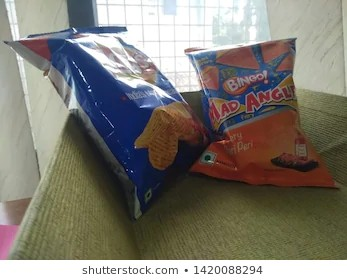lays-small: (12, 11, 200, 209)
